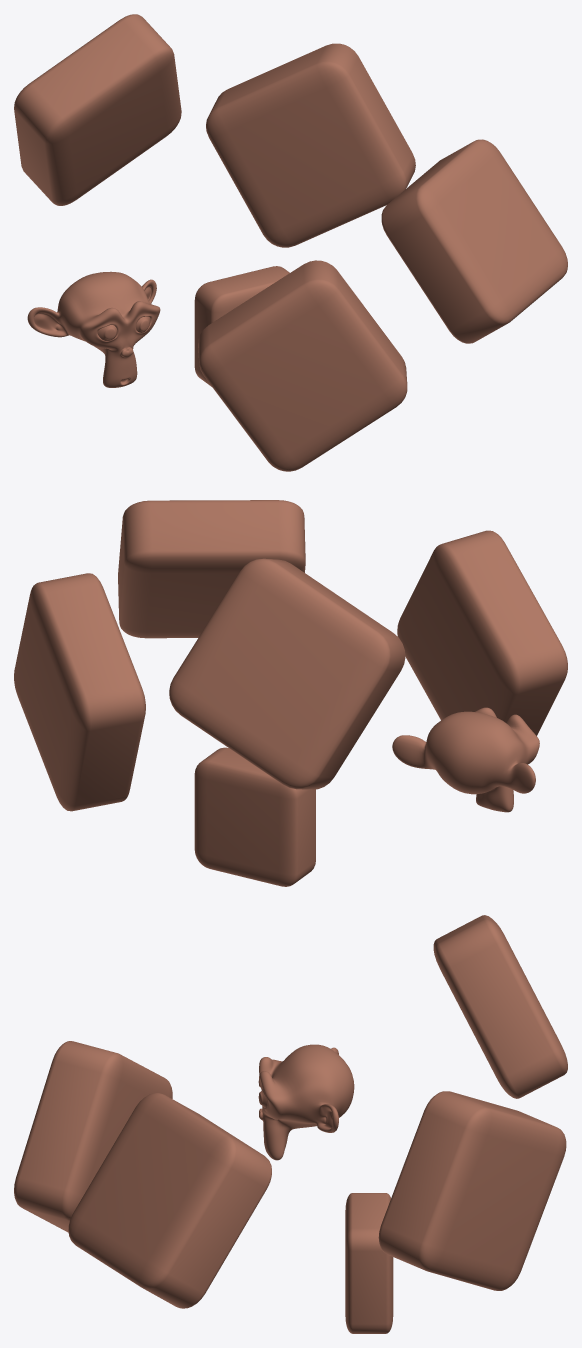
Rendered from Objecte1.obj.
3 renders of one model, top to bottom at view 1: azimuth 30°, elevation 25°; view 2: azimuth 150°, elevation 25°; view 3: azimuth 270°, elevation 25°, orthographic. The views are drawn at different scales.
Parts seen in each view (by area): view 1: Suzanne; view 2: Suzanne; view 3: Suzanne.
Boxes of the visible parts, x1,y1,x2,y2 form: Suzanne: [14, 14, 567, 471]; Suzanne: [14, 500, 567, 886]; Suzanne: [14, 915, 567, 1333].
Bounding box in the file's own units: 7.82 × 5.52 × 7.69.
Materials: 1 (1 with a texture image).
